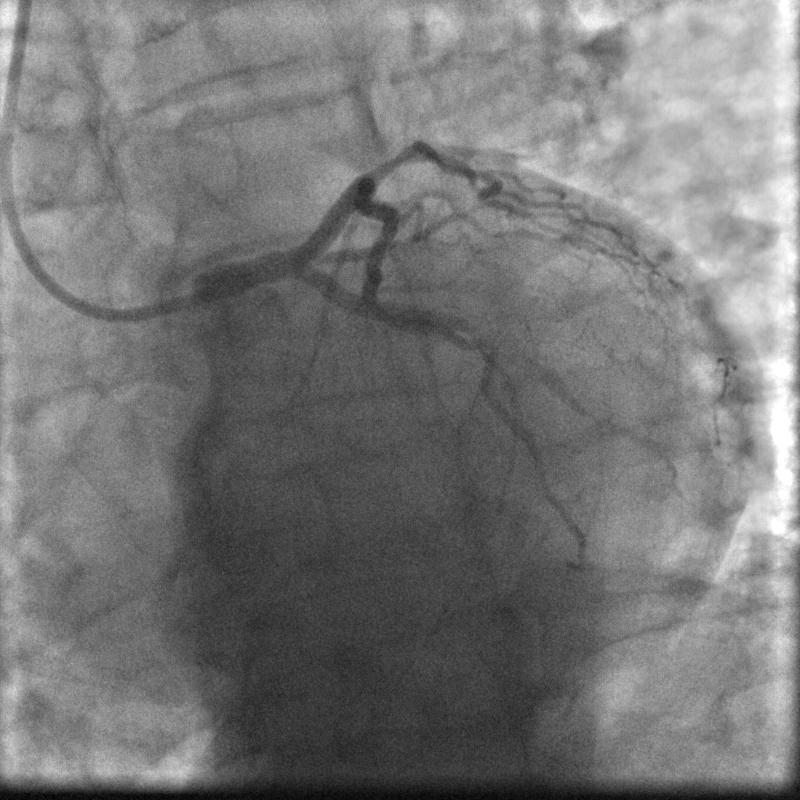Stenosis: (357, 137, 423, 180)
